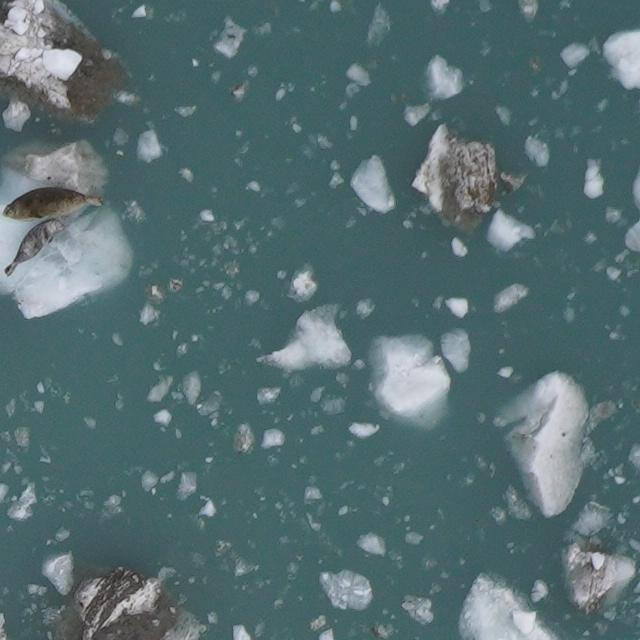seal: (1, 218, 70, 279), (0, 186, 107, 224)
